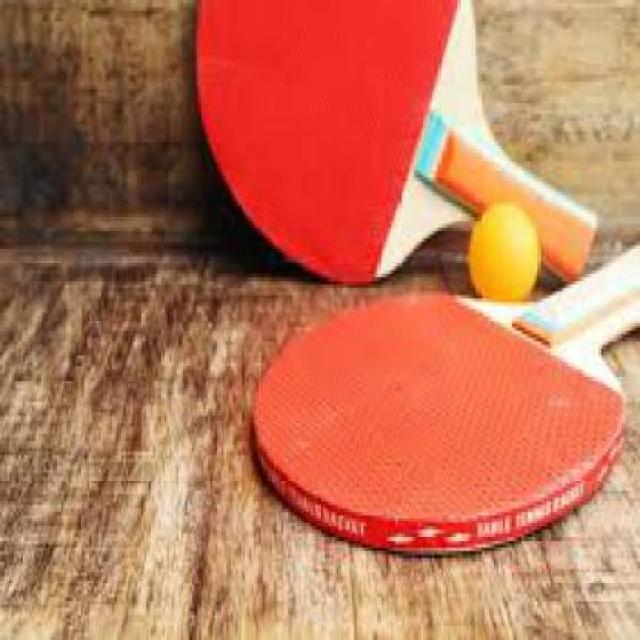table_tennis_racket: (241, 288, 630, 566), (188, 0, 488, 285)
